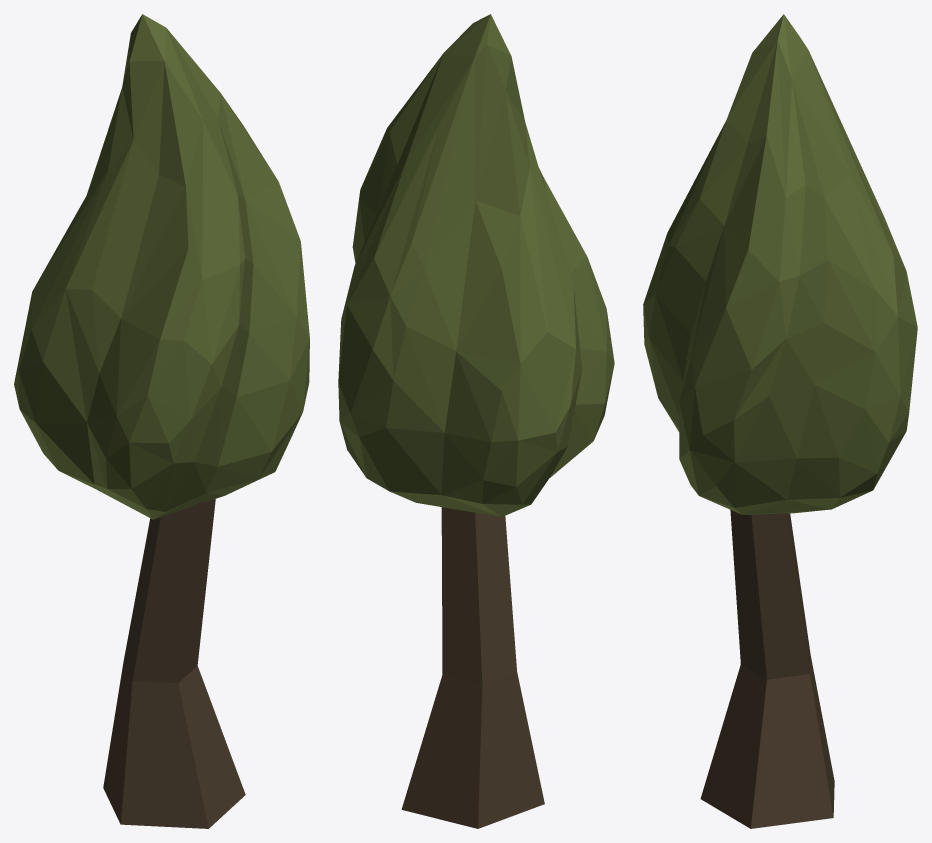
Rendered from SM_Env_Tree_011.gltf.
3 views of the same model, side by side, from view 1: azimuth 30°, elevation 25°; view 2: azimuth 150°, elevation 25°; view 3: azimuth 270°, elevation 25° (orthographic). The views are drawn at different scales.
Parts seen in each view (by area): view 1: SM_Env_Tree_011; view 2: SM_Env_Tree_011; view 3: SM_Env_Tree_011.
Part boxes in pixels (box(x1,y1,x2,y2)): SM_Env_Tree_011: box(14, 14, 309, 828); SM_Env_Tree_011: box(338, 14, 614, 828); SM_Env_Tree_011: box(643, 14, 917, 828).
Size of the model in its own units: 1.56 by 4.8 by 1.54.
Materials: 1 (1 with a texture image).
